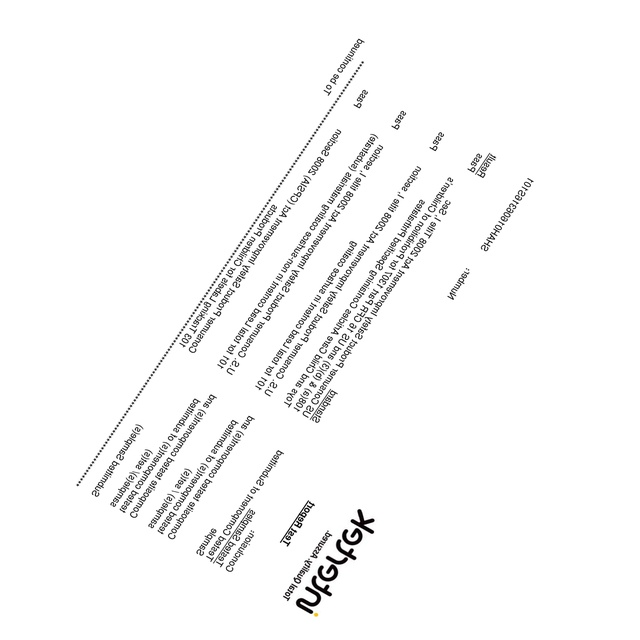intertek: (296, 508, 376, 618)
